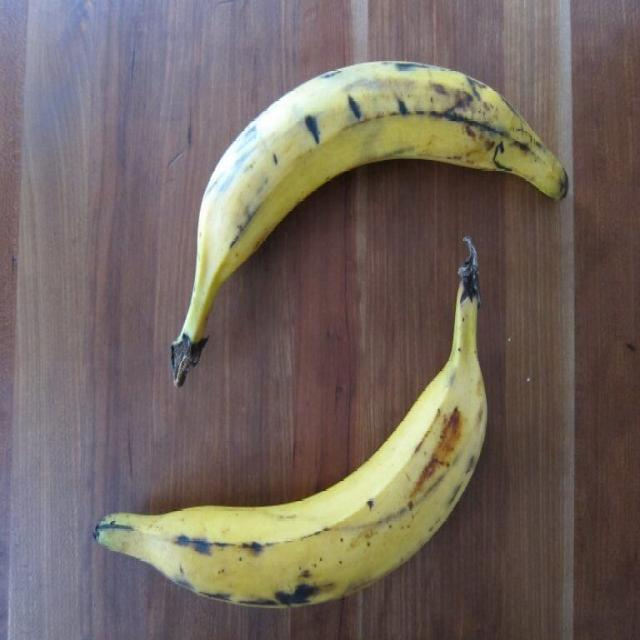Banana: (92, 350, 490, 610), (194, 57, 571, 254)
